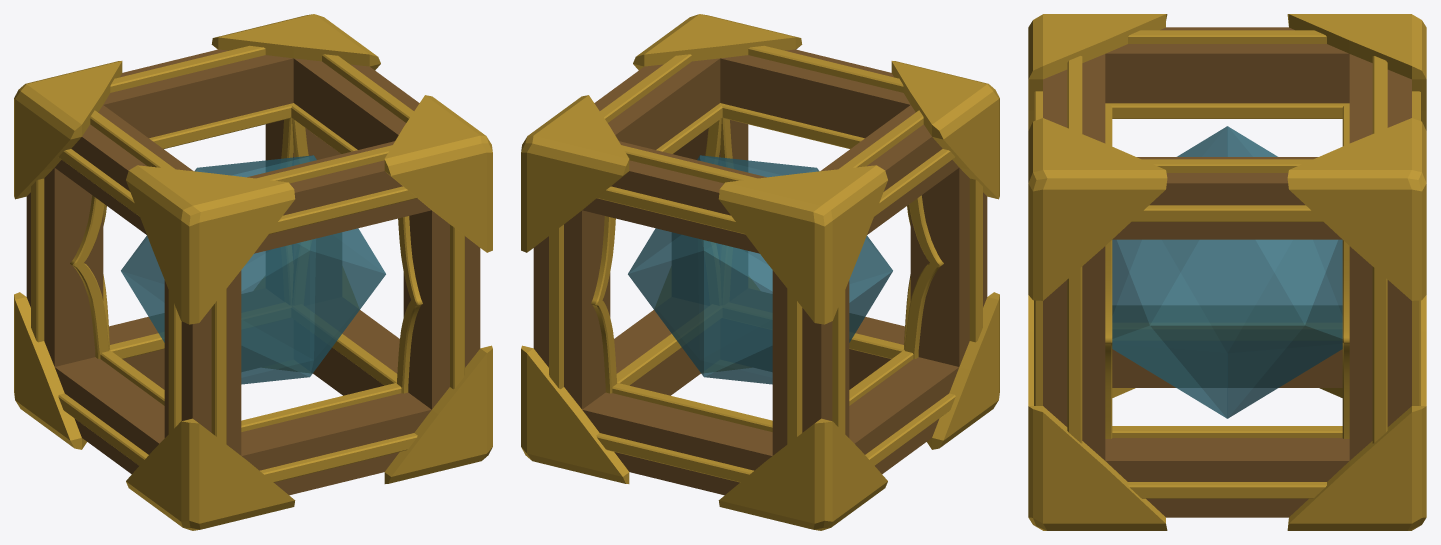
The model's file is TimeSphereCube.fbx.
3 views of the same model, side by side, from view 1: azimuth 30°, elevation 25°; view 2: azimuth 150°, elevation 25°; view 3: azimuth 270°, elevation 25° (orthographic). The views are drawn at different scales.
Parts seen in each view (by area): view 1: TimeSphereContainer, TimeSphere; view 2: TimeSphereContainer, TimeSphere; view 3: TimeSphereContainer, TimeSphere.
Part boxes in pixels (bbox=[...]): TimeSphereContainer: bbox=[14, 14, 492, 530]; TimeSphere: bbox=[121, 155, 385, 384]; TimeSphereContainer: bbox=[521, 14, 999, 530]; TimeSphere: bbox=[628, 155, 892, 384]; TimeSphereContainer: bbox=[1028, 14, 1426, 530]; TimeSphere: bbox=[1112, 126, 1342, 418].
Bounding box in the file's own units: 5.4 × 5.4 × 5.4.
